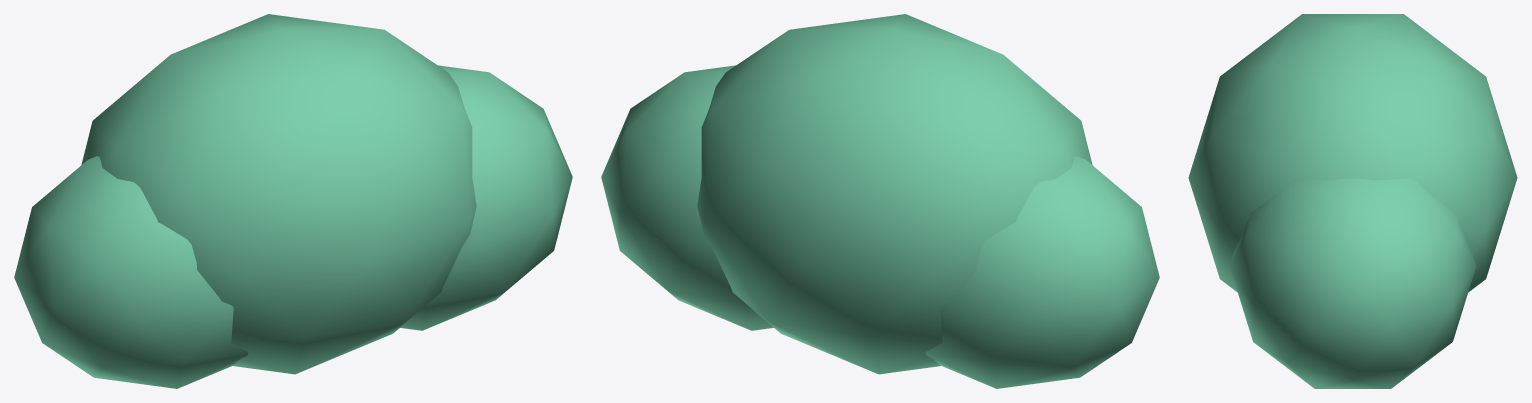
Rendered from Bush.fbx.
3 renders of one model, left to right at view 1: azimuth 30°, elevation 25°; view 2: azimuth 150°, elevation 25°; view 3: azimuth 270°, elevation 25°, orthographic. The views are drawn at different scales.
Parts seen in each view (by area): view 1: LeafCluster.001, LeafCluster, LeafCluster.002; view 2: LeafCluster.001, LeafCluster, LeafCluster.002; view 3: LeafCluster.001, LeafCluster.002.
Part boxes in pixels (<box>): LeafCluster.001: <box>81,14,476,374</box>; LeafCluster: <box>14,156,248,388</box>; LeafCluster.002: <box>400,65,572,330</box>; LeafCluster.001: <box>697,14,1092,374</box>; LeafCluster: <box>925,156,1159,388</box>; LeafCluster.002: <box>601,65,773,330</box>; LeafCluster.001: <box>1188,14,1517,292</box>; LeafCluster.002: <box>1229,178,1476,388</box>.
Size of the model in its own units: 1.59 by 0.96 by 0.96.
